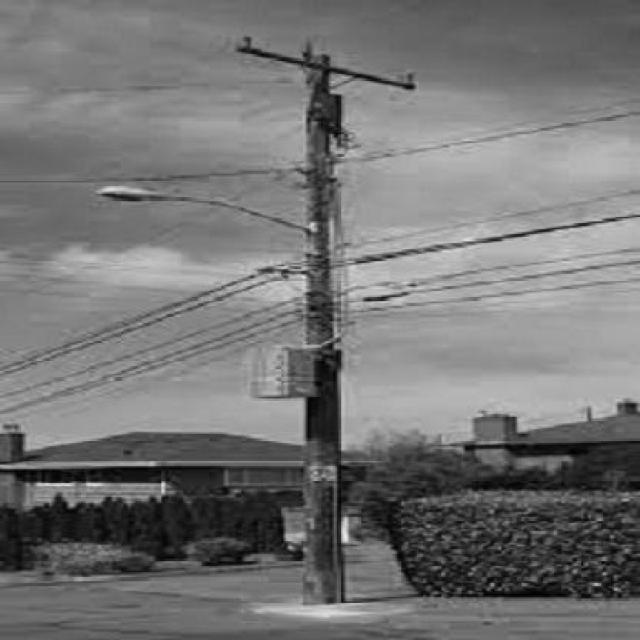Pole: (239, 37, 416, 604)
